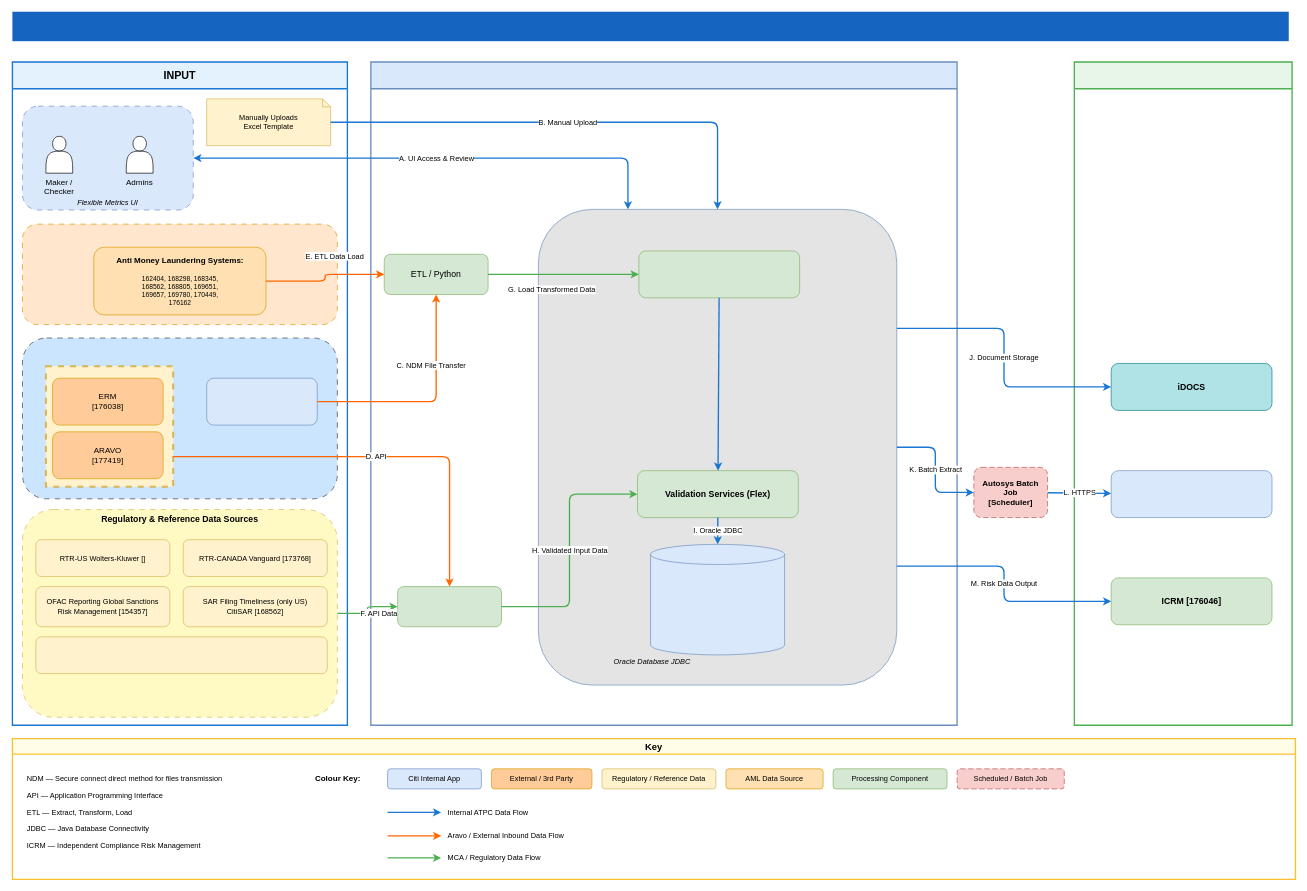
The diagram is 1307 pixels wide and 891 high, and some of its shapes have lost their labels. Here are the shapes that lost their labels. From the top down, the box of each, then its label:
(12, 11, 1288, 41): FCRA (176042) — High Level Logical View
(22, 106, 193, 210): ICRM Users
(22, 223, 337, 325): AML Source Systems
(638, 250, 800, 298): Workflow Services
(206, 378, 317, 425): Atlas [170905]
(370, 61, 957, 726): PROCESSING — APP ID 176042
(1073, 61, 1292, 726): OUTPUT
(22, 337, 337, 499): API / NDM Upstream Sources
(538, 209, 897, 685): Flexible Metrics System
(1111, 470, 1272, 518): Reporting Dashboard (Tableau)
(397, 586, 501, 627): Validation Services
(650, 544, 785, 655): CRC DB
(35, 636, 327, 674): Misconduct Policy Breaches L1, L2 HR Service Management [170832]
